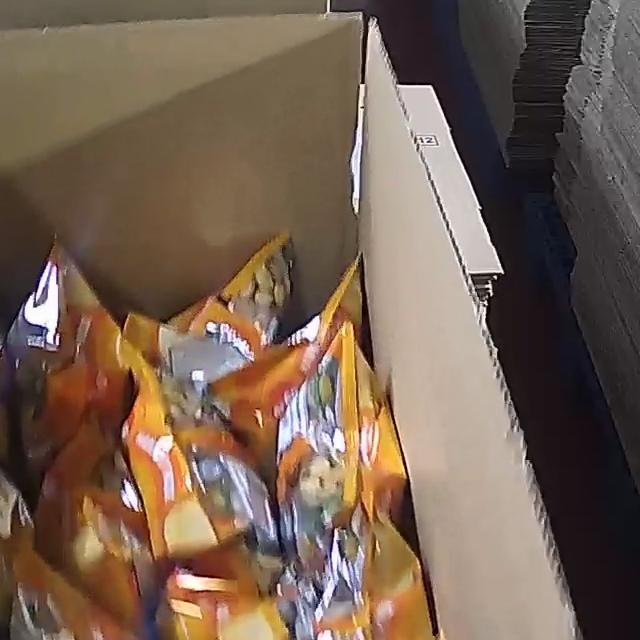cheese: (0, 230, 432, 640)
